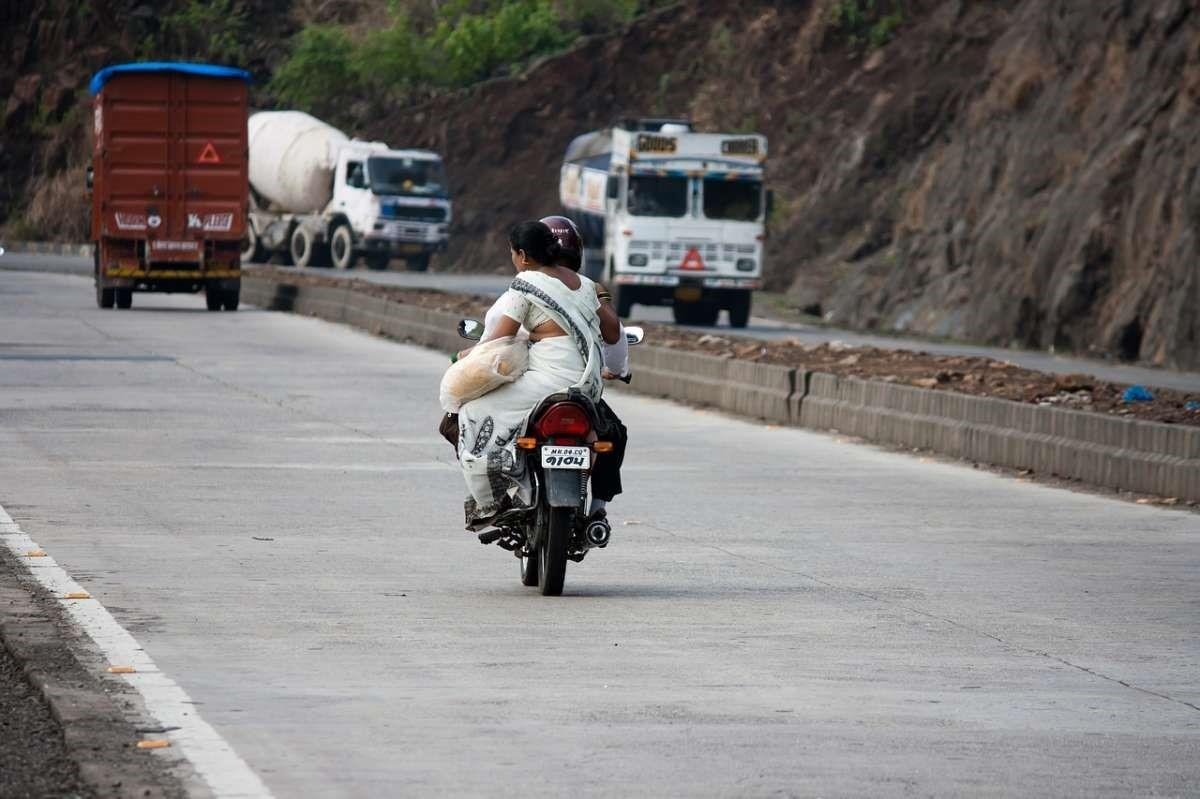MotorCycle: (507, 394, 615, 599)
